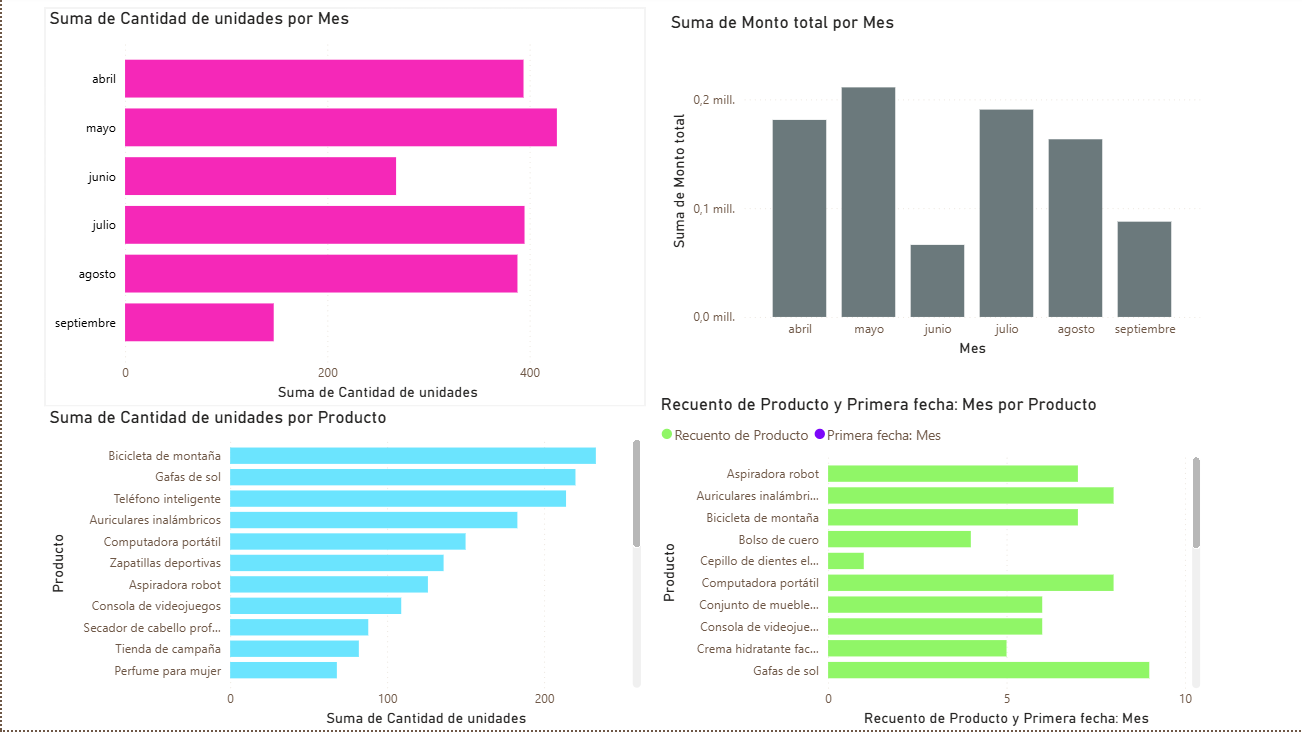

The dashboard page shown, as its layout file describes it:
{"tool":"powerbi","page":{"name":"Página 6","canvas":[1280,720],"ordinal":0},"visuals":[{"type":"barChart","fields":{"Category":["Venta+de+Productos+en+Línea(1).Fecha.Variación.Jerarquía de fechas.Mes"],"Y":["Sum(Venta+de+Productos+en+Línea(1).Cantidad de unidades)"]},"box":[41.2,12.3,588.7,389.7],"z":0},{"type":"lineStackedColumnComboChart","fields":{"Category":["Venta+de+Productos+en+Línea(1).Fecha.Variación.Jerarquía de fechas.Mes"],"Y":["Sum(Venta+de+Productos+en+Línea(1).Monto total)"]},"box":[649.1,16.5,528.3,343.1],"z":1},{"type":"barChart","fields":{"Category":["Venta+de+Productos+en+Línea(1).Producto"],"Y":["Sum(Venta+de+Productos+en+Línea(1).Cantidad de unidades)"]},"box":[41.2,402.1,588.7,318.4],"z":2},{"type":"barChart","fields":{"Category":["Venta+de+Productos+en+Línea(1).Producto","Venta+de+Productos+en+Línea(1).Cantidad de unidades"],"Y":["CountNonNull(Venta+de+Productos+en+Línea(1).Producto)","Min(Venta+de+Productos+en+Línea(1).Fecha.Variación.Jerarquía de fechas.Mes)"]},"box":[639.5,389.7,537.9,330.7],"z":3}]}

Visuals, with their boxes in screenshot pixels (x1, y1, x2, y2), scaled from the page's 1280x720 canvas onto the 1302x732 screenshot:
barChart - Venta+de+Productos+en+Línea(1).Fecha.Variación.Jerarquía de fechas.Mes x Sum(Venta+de+Productos+en+Línea(1).Cantidad de unidades): [x1=42, y1=13, x2=641, y2=409]
lineStackedColumnComboChart - Venta+de+Productos+en+Línea(1).Fecha.Variación.Jerarquía de fechas.Mes x Sum(Venta+de+Productos+en+Línea(1).Monto total): [x1=660, y1=17, x2=1198, y2=366]
barChart - Venta+de+Productos+en+Línea(1).Producto x Sum(Venta+de+Productos+en+Línea(1).Cantidad de unidades): [x1=42, y1=409, x2=641, y2=731]
barChart - Venta+de+Productos+en+Línea(1).Producto x Venta+de+Productos+en+Línea(1).Cantidad de unidades: [x1=650, y1=396, x2=1198, y2=731]
